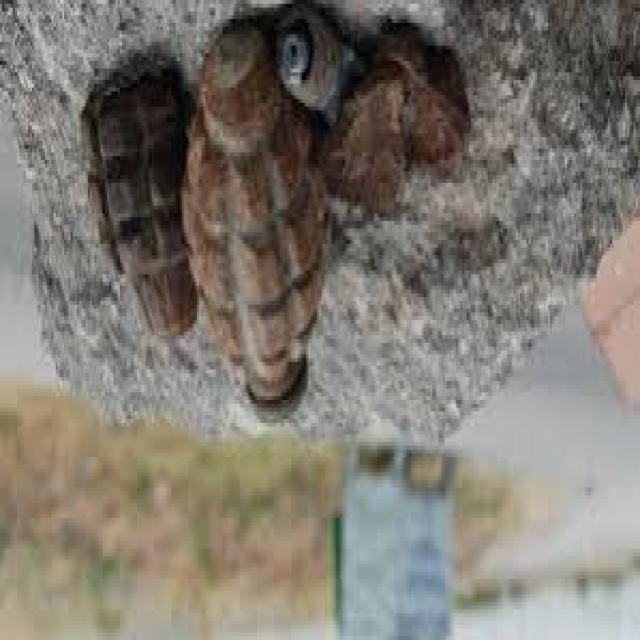grenade: (179, 30, 333, 436)
